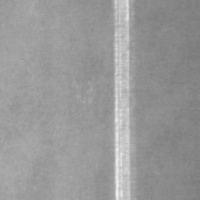scratches: (107, 0, 138, 193)
